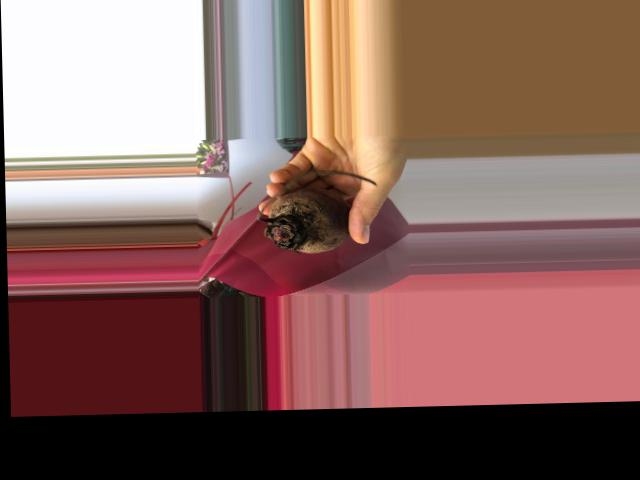beet: (254, 169, 378, 254)
